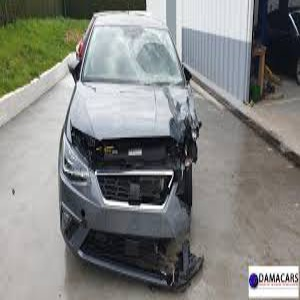bonnet: (140, 86, 202, 141)
bumper: (132, 190, 206, 291)
